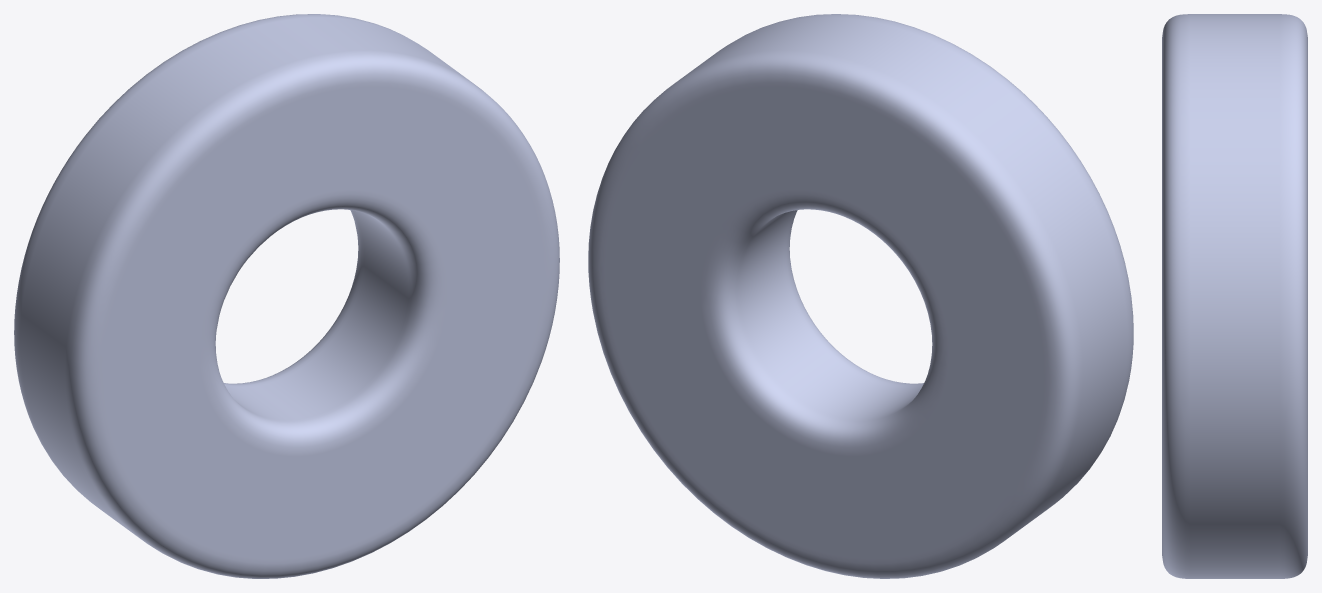
Rendered from Link_FrontLeft_Wheel.obj.
The picture shows the model from 3 angles, left to right: view 1: azimuth 30°, elevation 25°; view 2: azimuth 150°, elevation 25°; view 3: azimuth 270°, elevation 25°; orthographic projection.
Parts seen in each view (by area): view 1: Body1; view 2: Body1; view 3: Body1.
Part boxes in pixels (bbox=[...]): Body1: bbox=[14, 14, 559, 578]; Body1: bbox=[588, 14, 1133, 578]; Body1: bbox=[1162, 14, 1307, 578].
Size of the model in its own units: 6 by 6 by 1.55.
